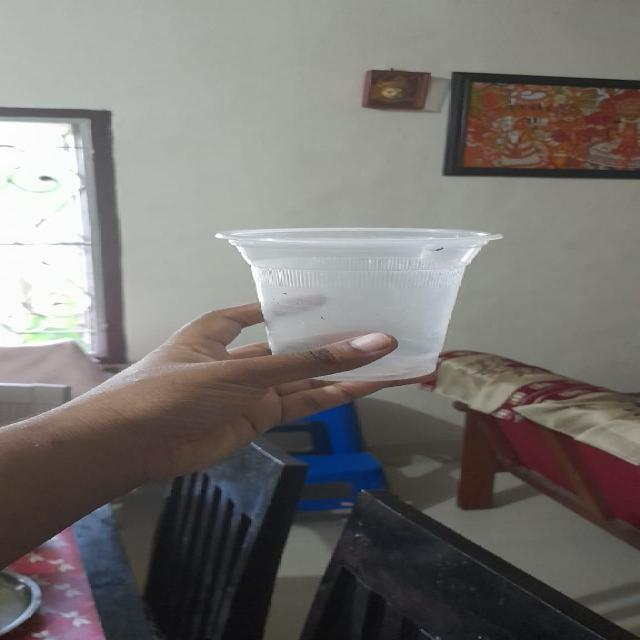Plastic - Recyclable: (212, 225, 506, 383)
